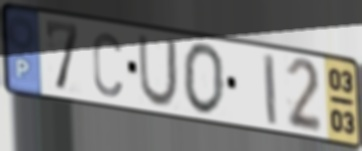2: (284, 55, 324, 134)
7: (43, 17, 81, 95)
C: (90, 29, 125, 100)
I: (261, 50, 280, 128)
O: (181, 40, 227, 118)
U: (136, 33, 179, 110)
